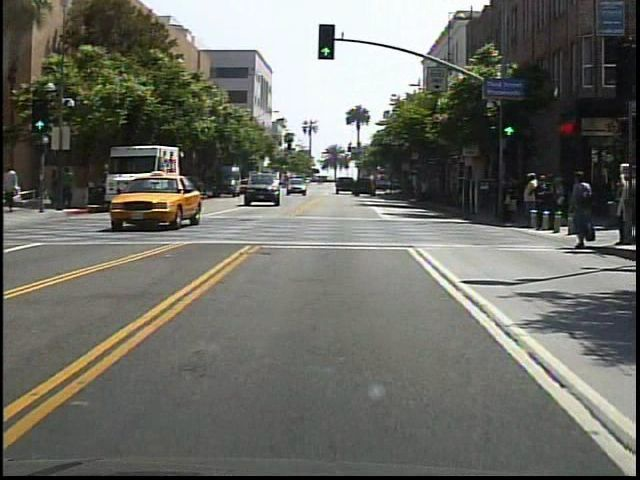person: (564, 169, 597, 250), (521, 166, 539, 226), (5, 162, 26, 212), (62, 165, 78, 209), (51, 167, 65, 209)
